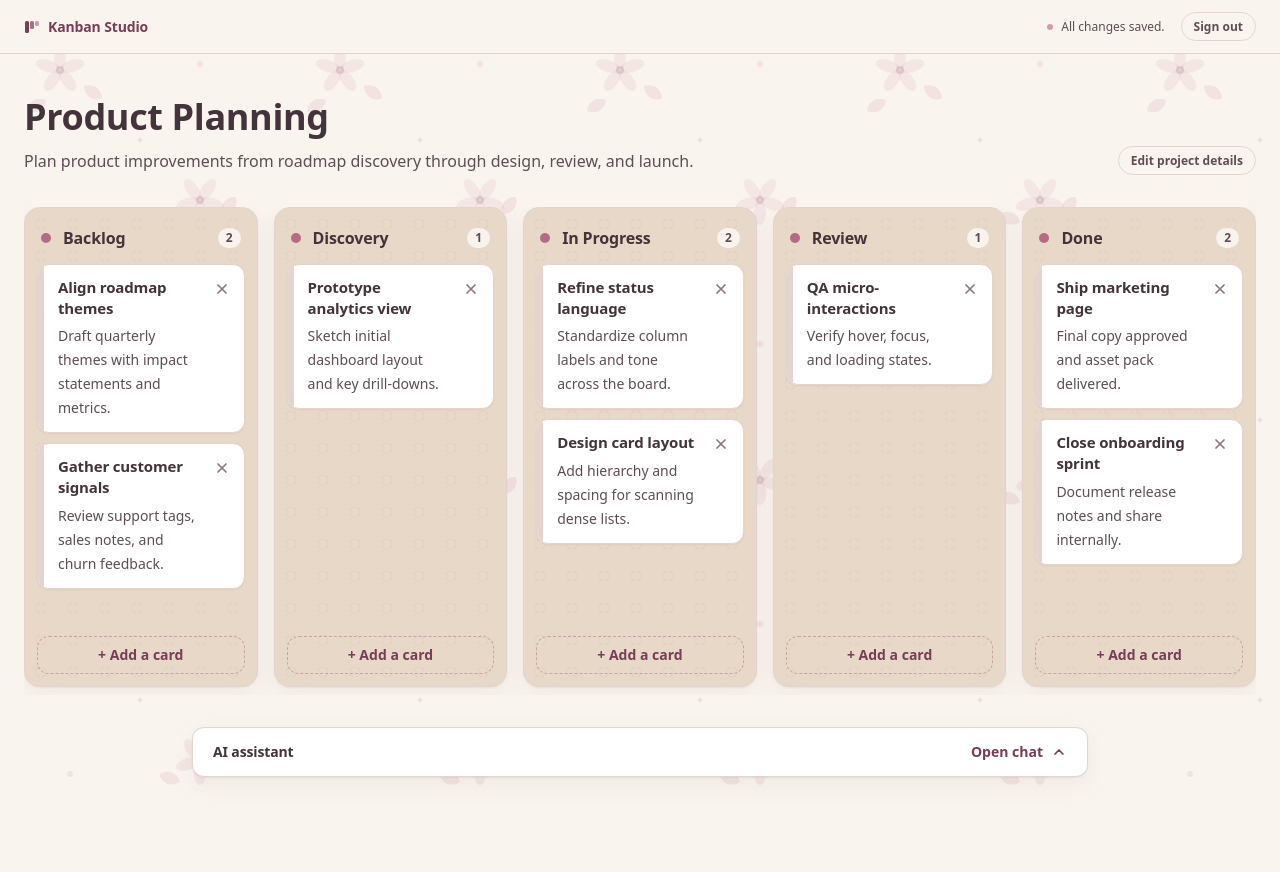
Test case: KanbanBoard › adds and removes a card
Expected: the element with test id "column-col-backlog" is shown, [24,207,258,687]
Click the 1st button "+ Add a card".
click(141, 655)  # box [37,636,245,674]
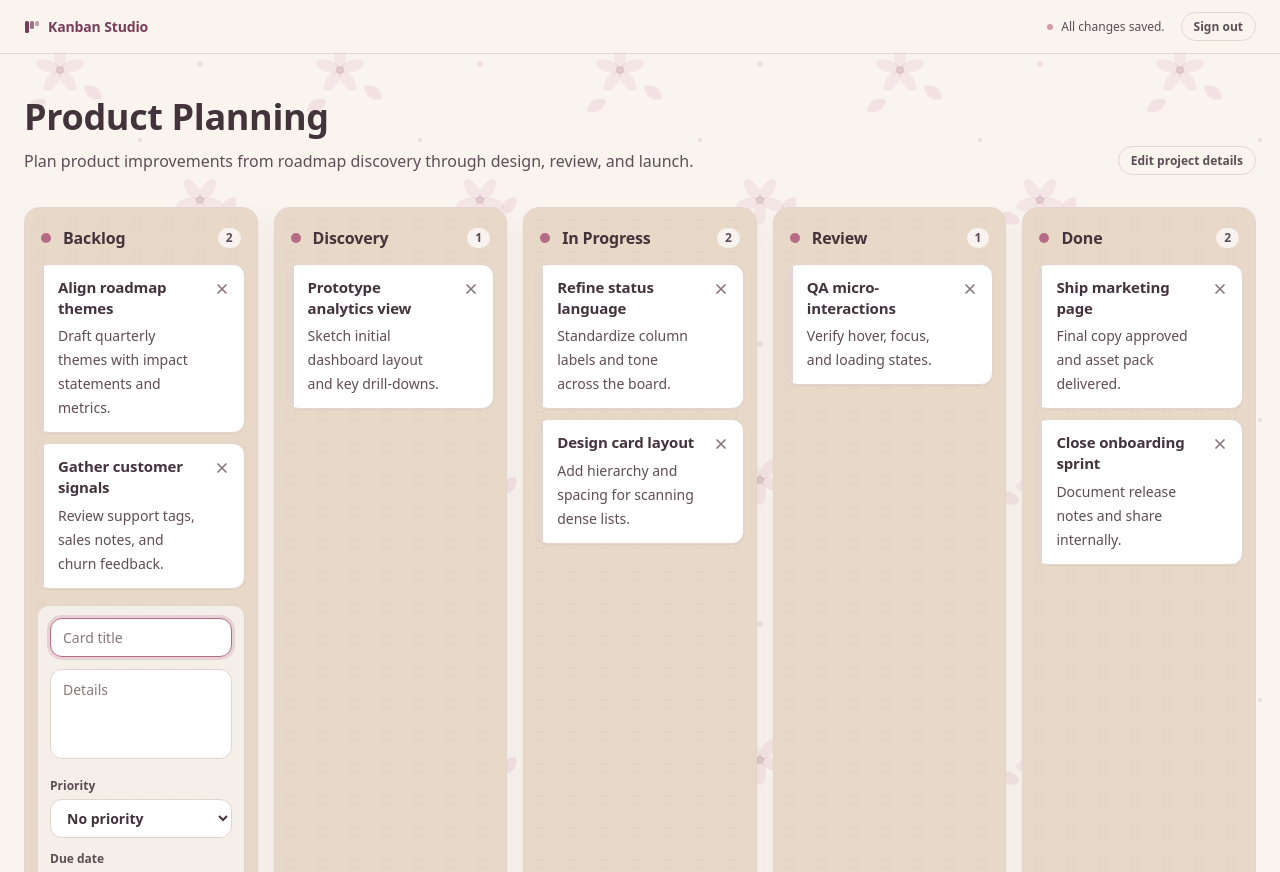
Type "New card" into the field with placeholder "Card title".
click(141, 637); type("New card")  # box [50,618,232,656]
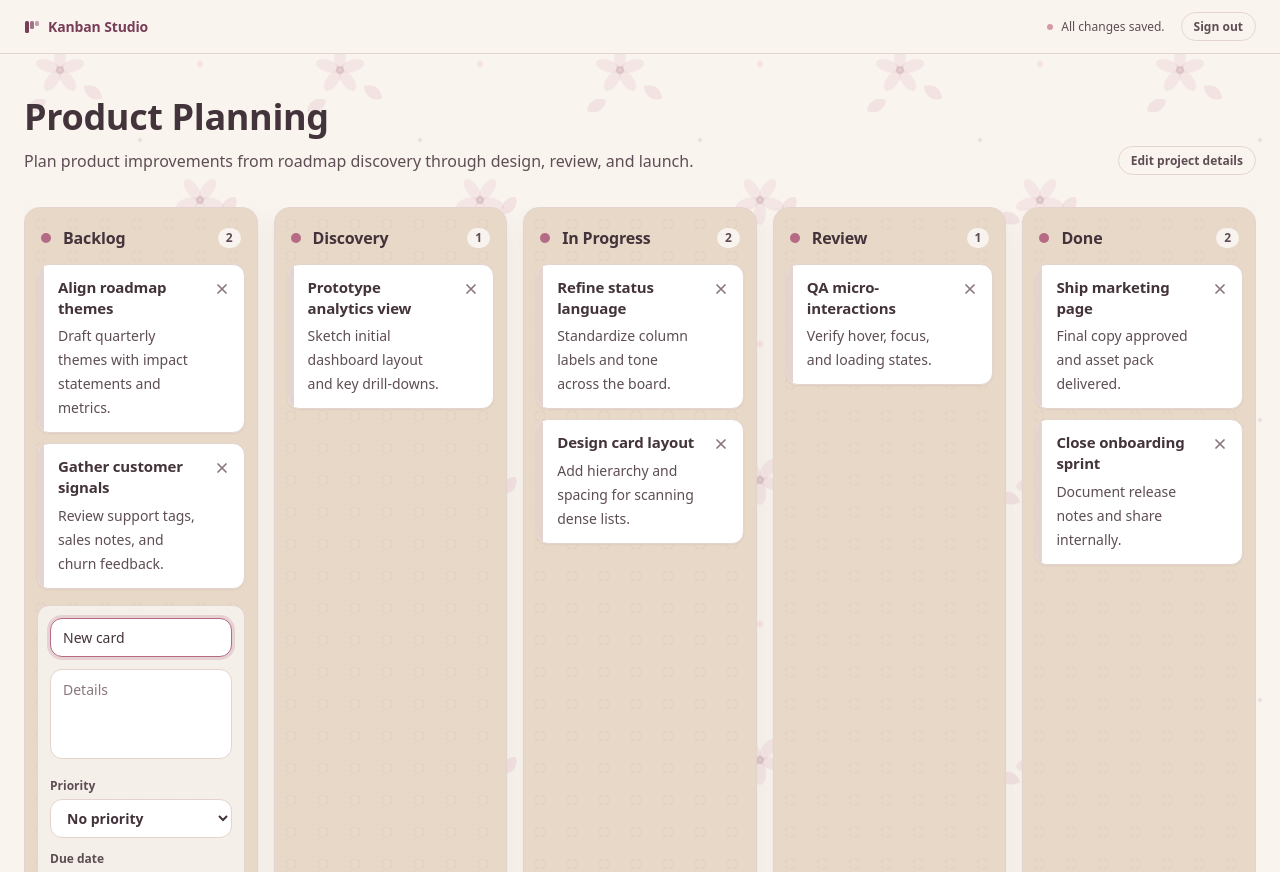
Type "Notes" into the text box with placeholder "Details".
click(141, 714); type("Notes")  # box [50,668,232,758]
(page scrolled)
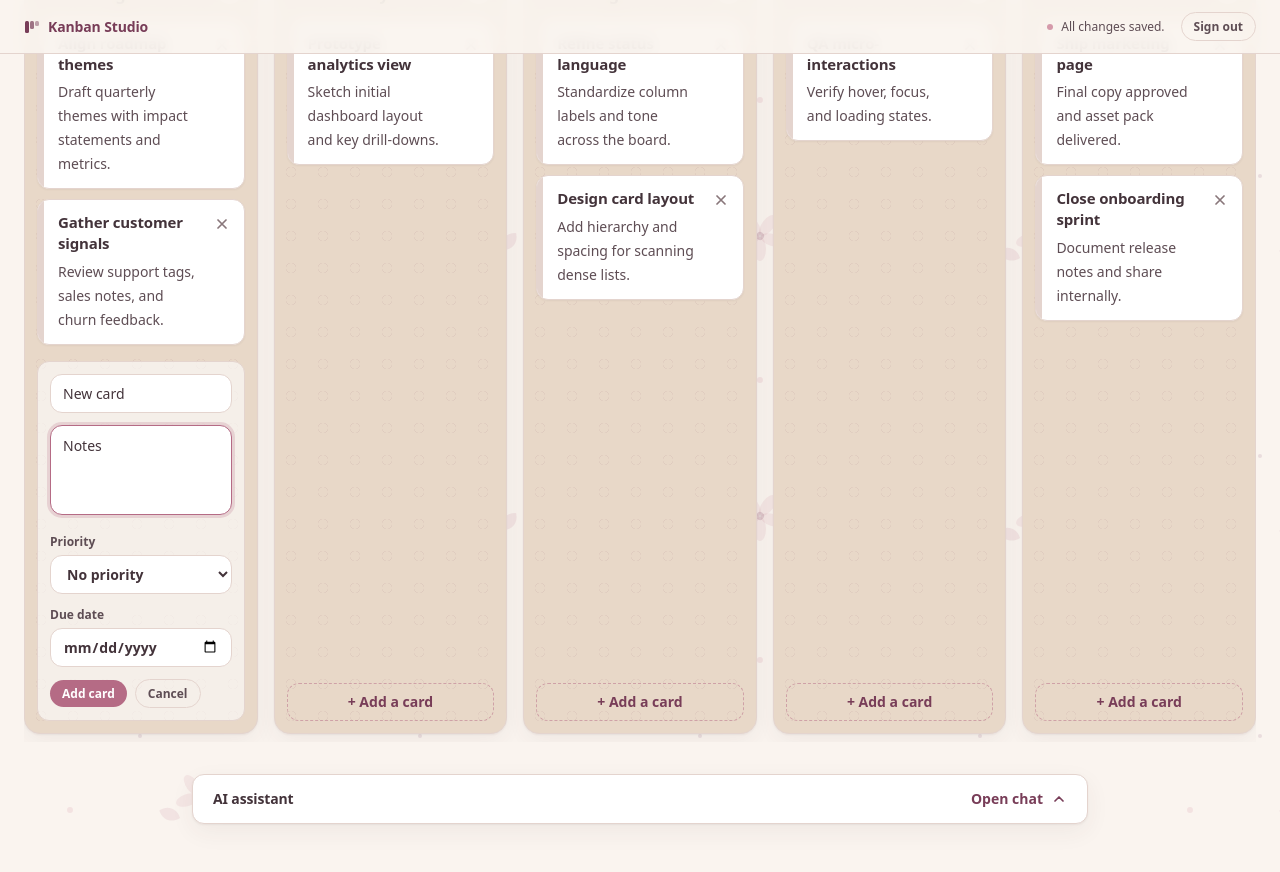
Click the button "Add card".
click(88, 693)  # box [50,680,127,706]
(page scrolled)
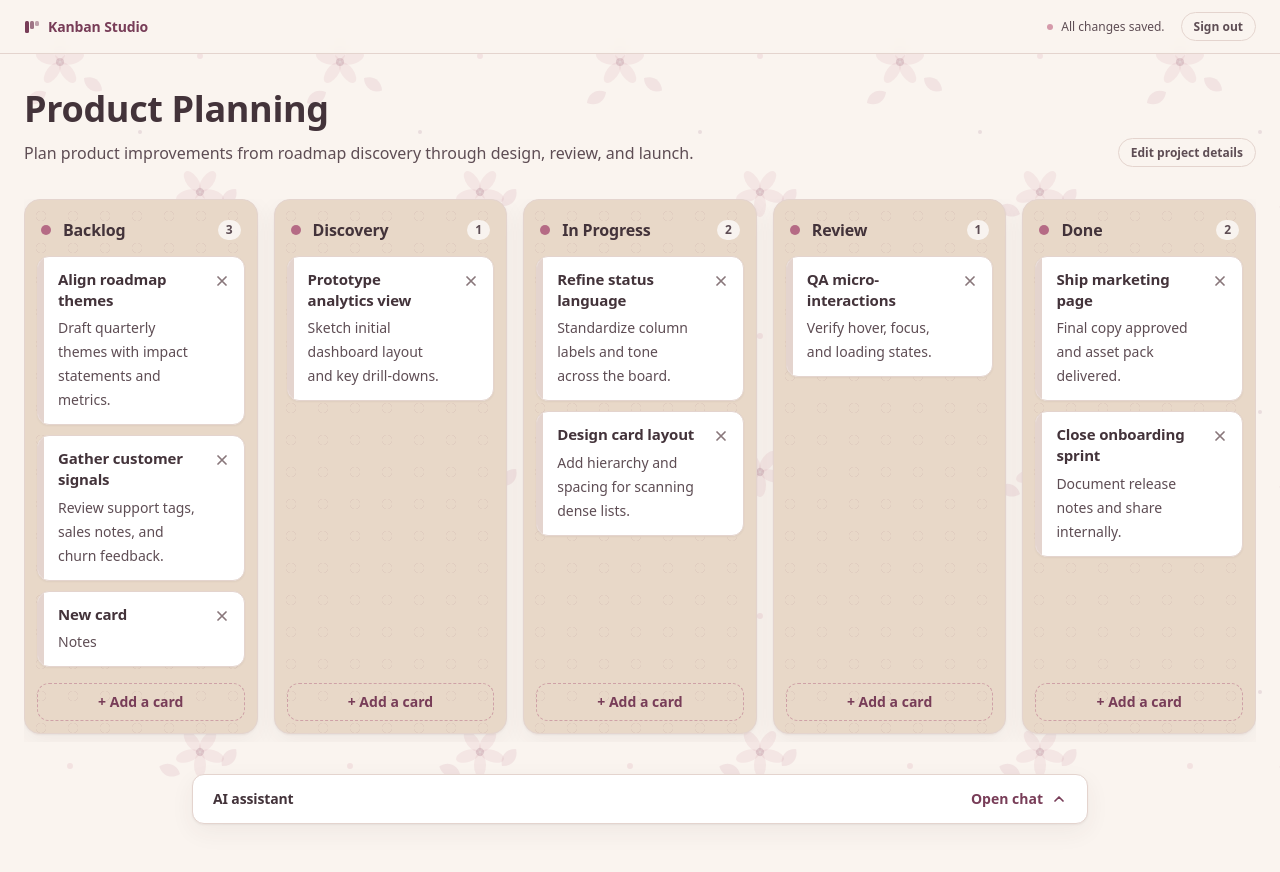
Expected: the button "New card" is shown, [58,604,127,624]
Click the button named "delete new card".
click(222, 616)  # box [208,602,236,630]
(page scrolled)
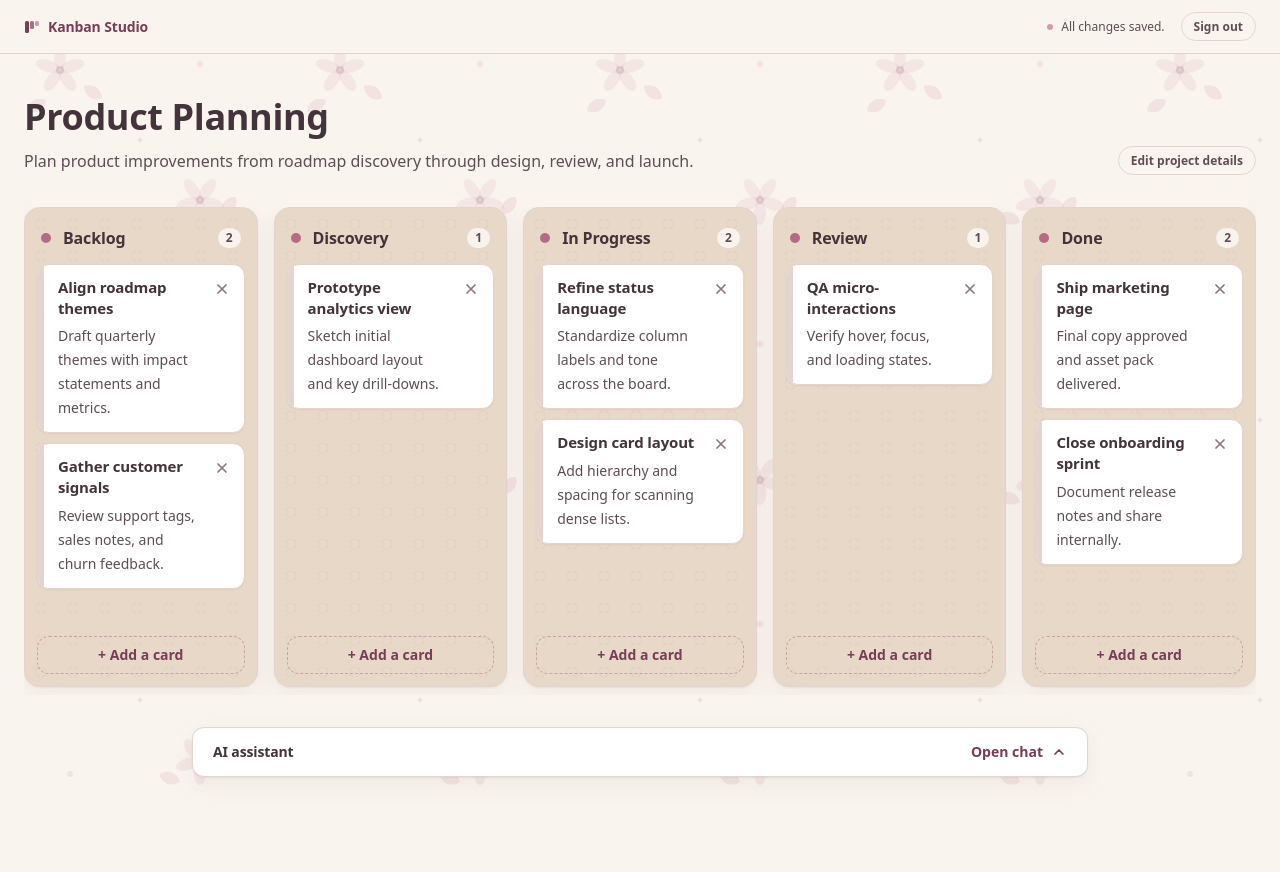
Expected: the button "New card" is gone
